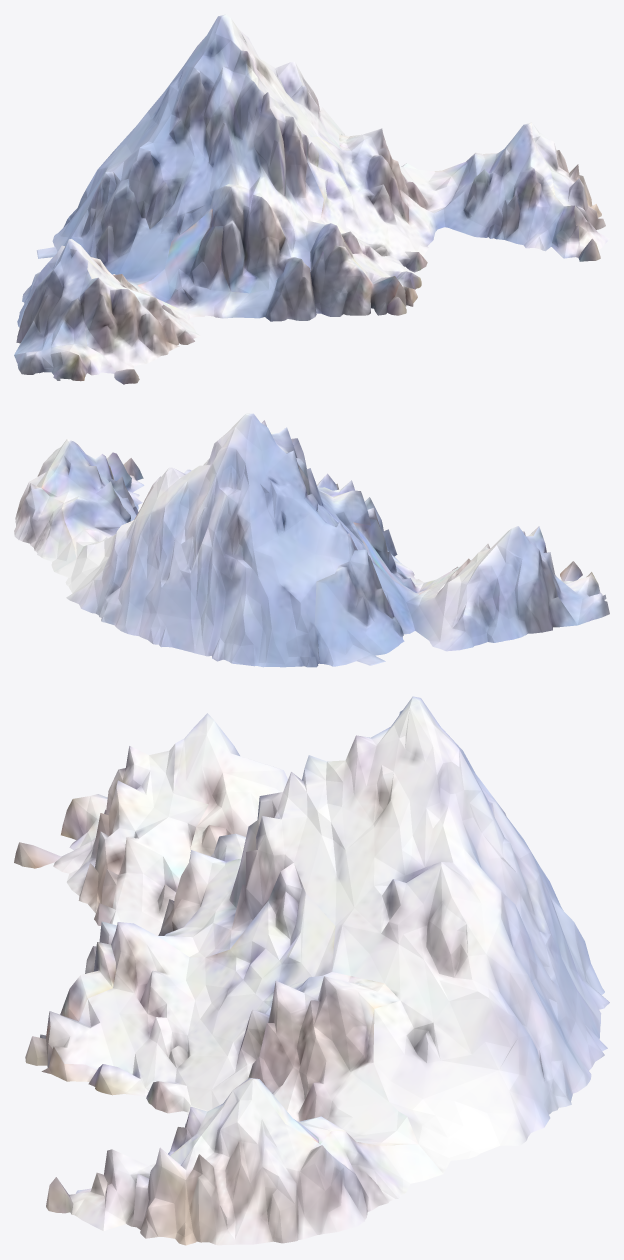
The model's file is highland-snow-ridge.glb.
3 views of the same model, one above another, from view 1: azimuth 30°, elevation 25°; view 2: azimuth 150°, elevation 25°; view 3: azimuth 270°, elevation 25° (orthographic). The views are drawn at different scales.
Parts seen in each view (by area): view 1: AuthoredSnowRidge; view 2: AuthoredSnowRidge; view 3: AuthoredSnowRidge.
Part boxes in pixels (box(x1,y1,x2,y2)): AuthoredSnowRidge: box(14, 14, 609, 384); AuthoredSnowRidge: box(14, 413, 609, 667); AuthoredSnowRidge: box(14, 696, 609, 1245).
Bounding box in the file's own units: 64 × 22.08 × 36.66.
Materials: 1 (1 with a texture image).
